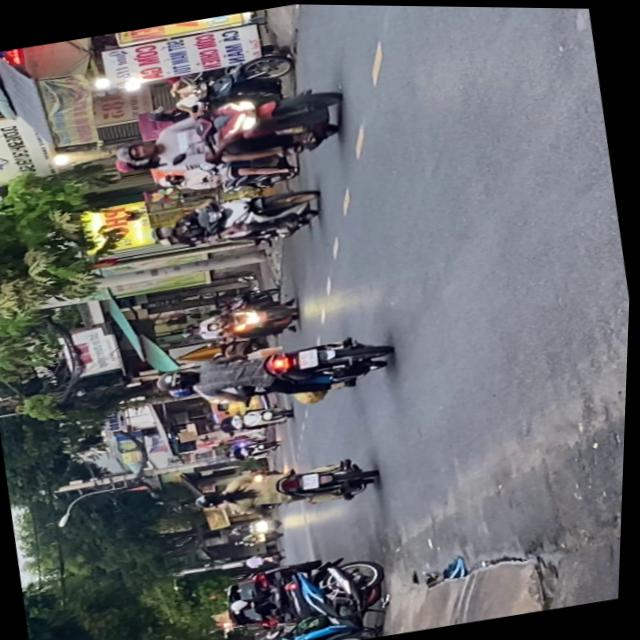helmet: (112, 136, 160, 163), (156, 366, 200, 392), (113, 154, 150, 174), (194, 488, 227, 509), (144, 221, 176, 242), (155, 169, 184, 188), (167, 382, 199, 399)
licenseplate: (105, 77, 353, 188), (153, 322, 398, 424), (190, 447, 384, 530), (139, 179, 327, 261), (152, 145, 301, 207)
nohelmet: (298, 347, 320, 367), (302, 472, 321, 489)
